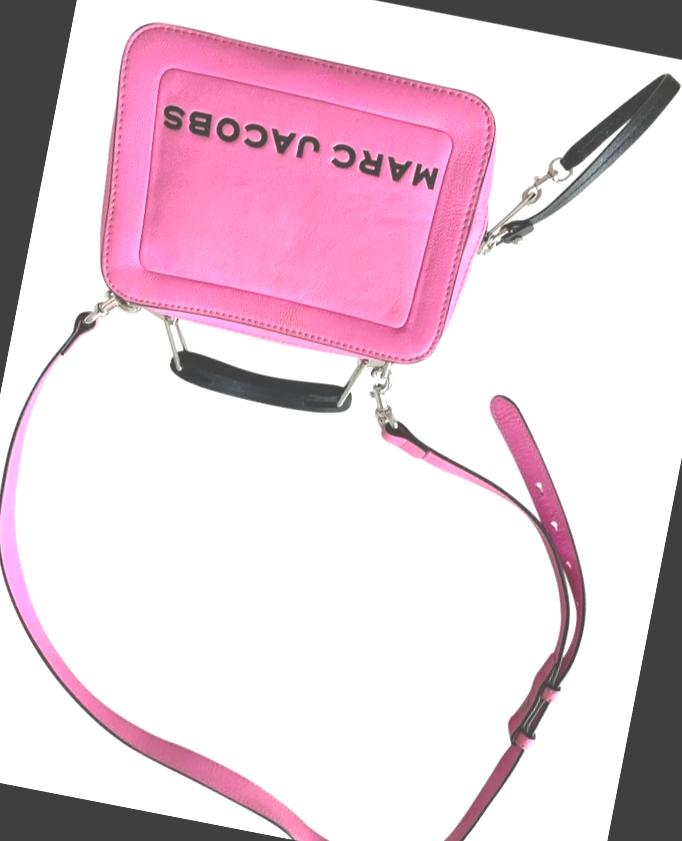MARC-JACOBS: (156, 102, 440, 191)
